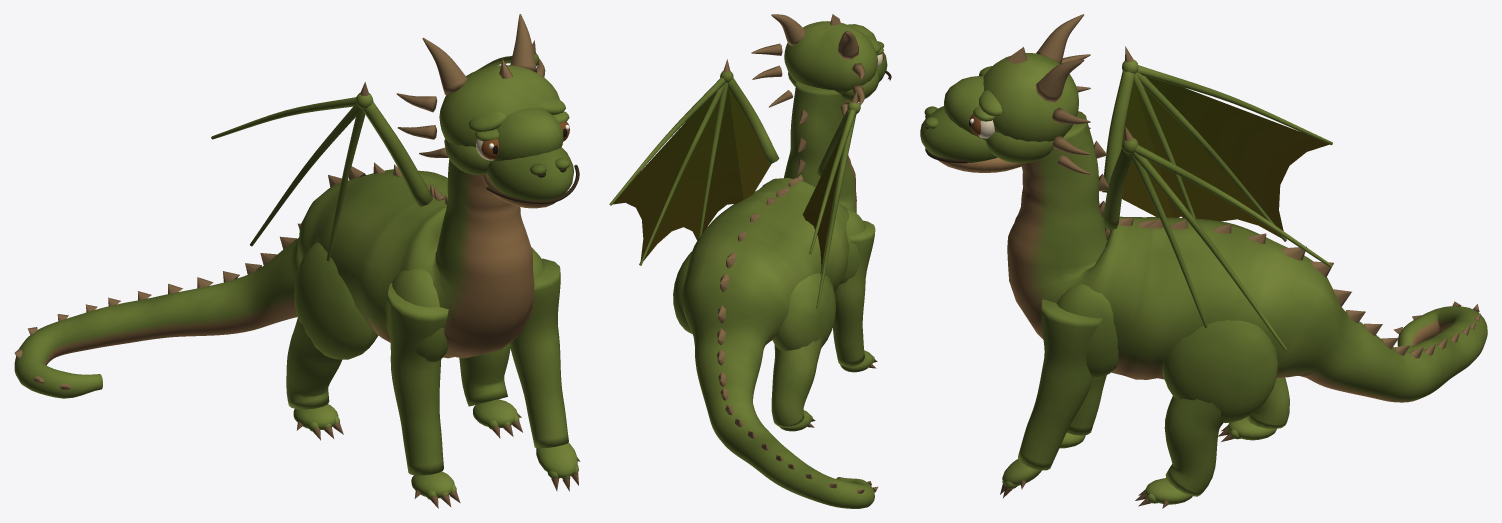
Rendered from 20-dragon.glb.
3 renders of one model, left to right at view 1: azimuth 30°, elevation 25°; view 2: azimuth 150°, elevation 25°; view 3: azimuth 270°, elevation 25°, orthographic. The views are drawn at different scales.
Parts seen in each view (by area): view 1: Body, Dragon, Head, WingR; view 2: Body, WingL, Dragon, Head, WingR; view 3: Body, Dragon, WingR, Head, WingL.
Part boxes in pixels (x1=…): Body: x1=14, y1=159, x2=534, y2=398; Dragon: x1=14, y1=162, x2=580, y2=508; Head: x1=396, y1=14, x2=579, y2=208; WingR: x1=211, y1=82, x2=432, y2=261; Body: x1=682, y1=81, x2=874, y2=508; WingL: x1=609, y1=59, x2=779, y2=265; Dragon: x1=673, y1=110, x2=877, y2=493; Head: x1=751, y1=14, x2=891, y2=117; WingR: x1=802, y1=91, x2=860, y2=308; Body: x1=1007, y1=111, x2=1487, y2=402; Dragon: x1=1000, y1=141, x2=1480, y2=508; WingR: x1=1102, y1=46, x2=1332, y2=241; Head: x1=920, y1=14, x2=1090, y2=174; WingL: x1=1102, y1=126, x2=1332, y2=350.
Size of the model in its own units: 6.73 by 7.21 by 8.57.
